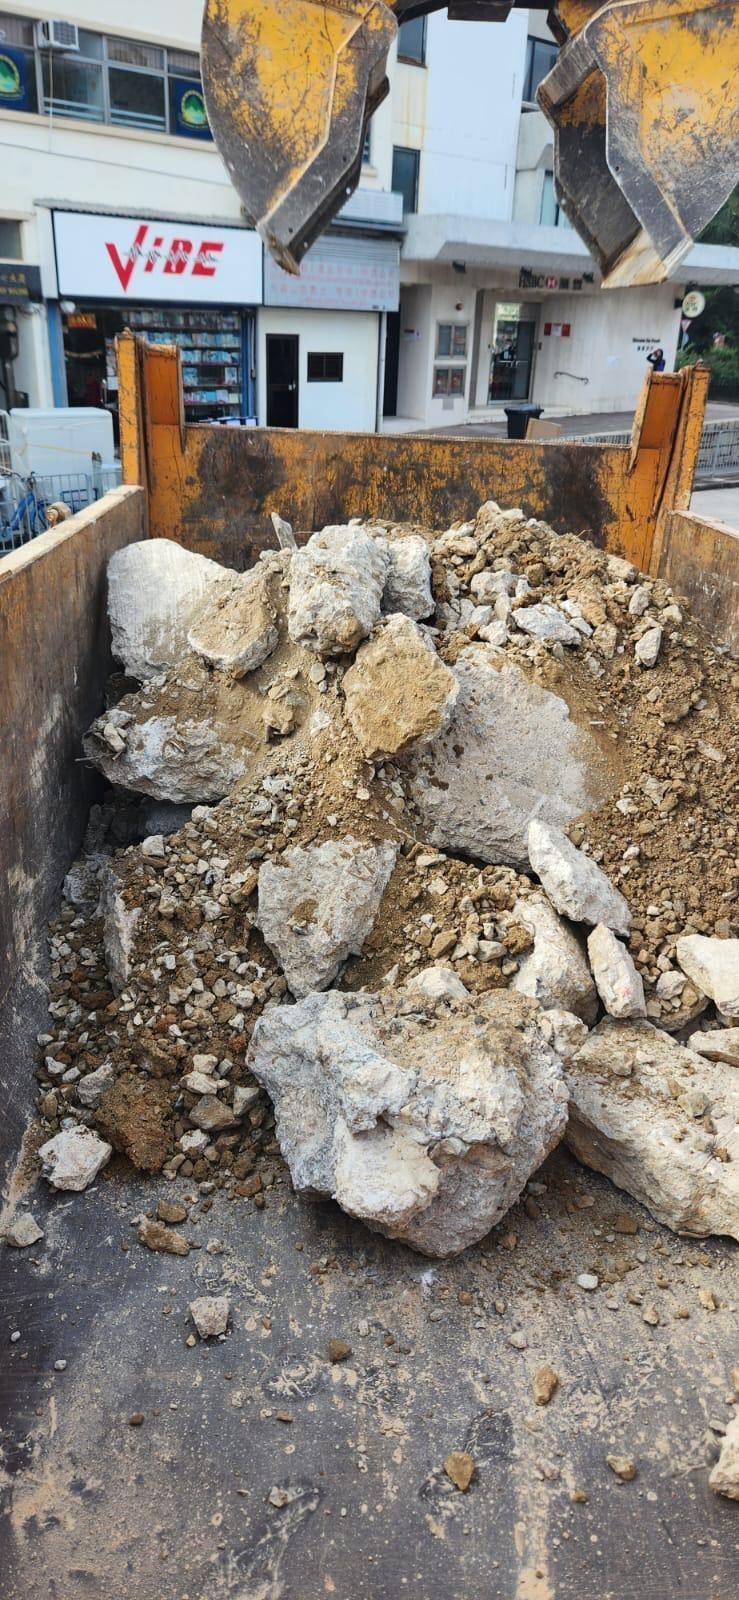dirt: (3, 498, 736, 1596)
stone: (244, 966, 571, 1259), (393, 639, 625, 874), (560, 1013, 737, 1241), (255, 828, 400, 997), (339, 611, 459, 760), (524, 817, 632, 935), (36, 1123, 112, 1192)
